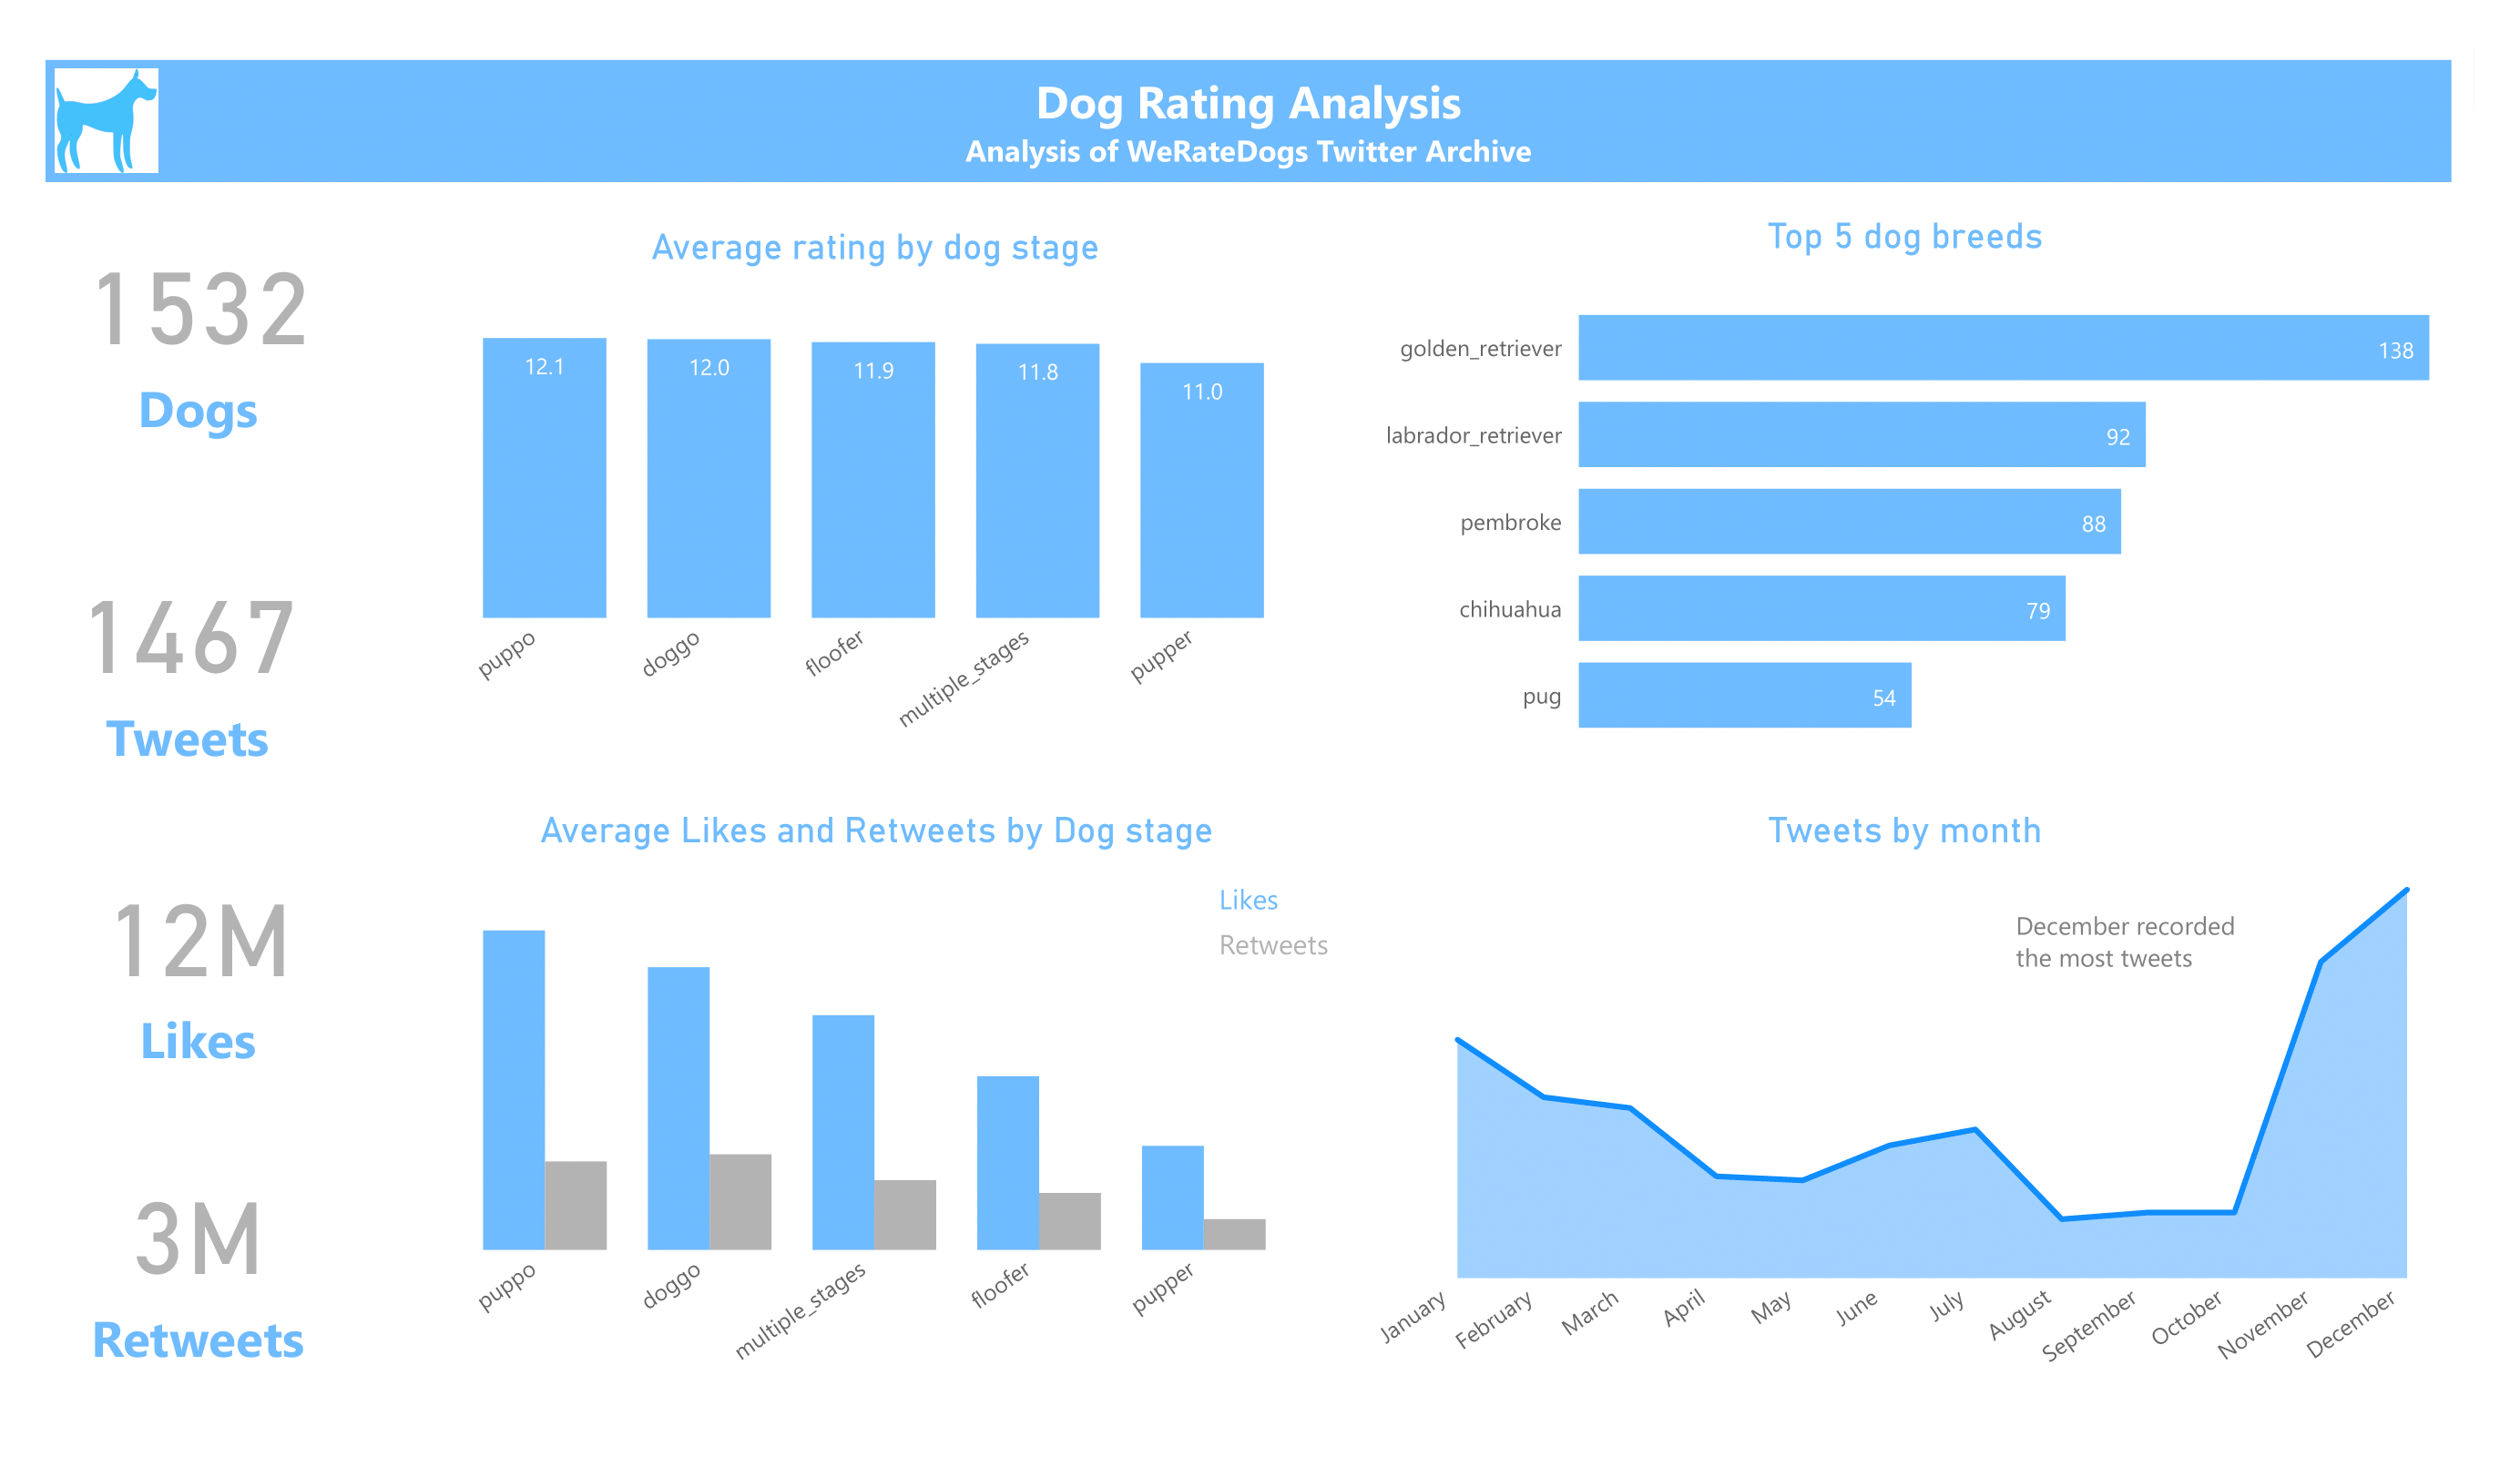

This screenshot's page, from the dashboard's own definition file:
{"tool":"powerbi","page":{"name":"Page 1","canvas":[1280,720],"ordinal":0},"visuals":[{"type":"card","title":"Tweet count","fields":{"Values":["Count(copy.tweet_id)"]},"box":[0,248.6,255.3,154.5],"z":0},{"type":"clusteredColumnChart","title":"Average Likes and Retweets by Dog stage","fields":{"Category":["tryagain.dog_stage"],"Y":["Avg(tryagain.favorite_count)","Avg(tryagain.retweet_count)"]},"box":[314.1,403.1,384.7,317.5],"z":1000},{"type":"areaChart","title":"Tweets by month","fields":{"Category":["copy.timestamp.Variation.Date Hierarchy.Month","copy.timestamp.Variation.Date Hierarchy.Day"],"Y":["CountNonNull(copy.tweet_id)"]},"box":[698.8,403.1,566.1,317.5],"z":2000},{"type":"barChart","title":"Top 5 dog breeds","fields":{"Category":["copy.p1"],"Y":["CountNonNull(copy.tweet_id)"]},"box":[698.8,85.7,566.1,317.5],"z":3000},{"type":"card","title":"Total Likes","fields":{"Values":["Sum(copy.favorite_count)"]},"box":[0,403.1,255.3,159.6],"z":4000},{"type":"card","title":"Total Retweets","fields":{"Values":["Sum(copy.retweet_count)"]},"box":[0,562.7,255.3,157.9],"z":5000},{"type":"columnChart","title":"Average rating by dog stage","fields":{"Category":["tryagain.dog_stage"],"Y":["Avg(tryagain.rating_numerator)"]},"box":[307.4,92.4,399.8,292.3],"z":6000},{"type":"card","title":"Dog count","fields":{"Values":["Sum(copy3.num_of_dogs)"]},"box":[0,67.2,255.3,159.6],"z":7000},{"type":"textbox","box":[0,5,1264.9,62.2],"z":8000},{"type":"image","box":[0,0,62.2,67.2],"z":10000},{"type":"image","box":[1202.7,0,62.2,68.9],"z":11000},{"type":"textbox","box":[633.3,428.3,57.1,30.2],"z":11001},{"type":"textbox","box":[619.8,458.6,70.6,31.9],"z":11002}]}

Visuals, with their boxes in screenshot pixels (x1, y1, x2, y2):
"Tweet count" card: 46:517:530:810
"Average Likes and Retweets by Dog stage" clusteredColumnChart: 641:810:1372:1411
"Tweets by month" areaChart: 1372:810:2446:1411
"Top 5 dog breeds" barChart: 1372:209:2446:810
"Total Likes" card: 46:810:530:1113
"Total Retweets" card: 46:1113:530:1411
"Average rating by dog stage" columnChart: 628:221:1388:775
"Dog count" card: 46:173:530:475
textbox: 46:55:2446:173
image: 46:46:164:173
image: 2328:46:2446:177
textbox: 1248:858:1356:915
textbox: 1221:915:1356:976
